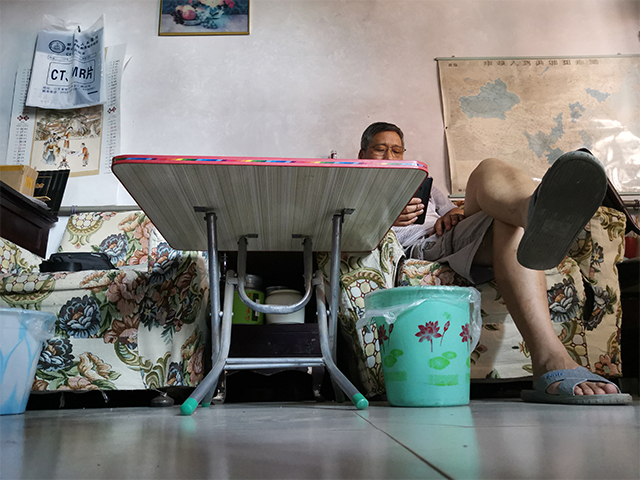sofa: (1, 208, 220, 409)
table: (110, 152, 430, 417)
trashcan: (361, 284, 484, 408), (1, 305, 60, 418)
